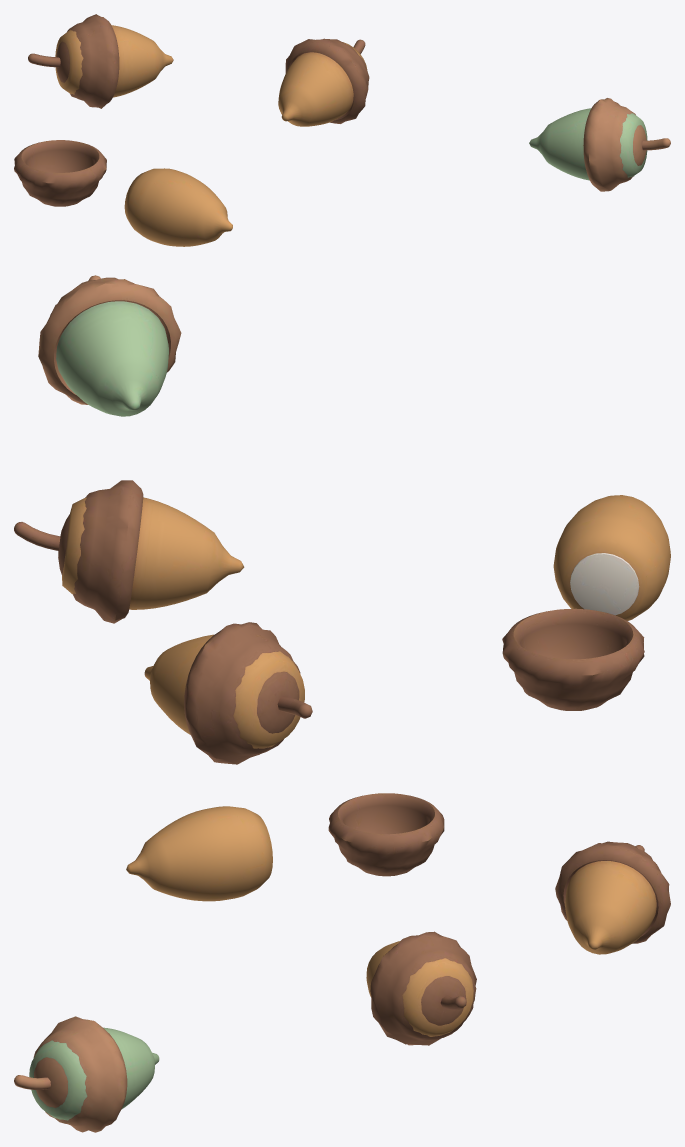
The model's file is acorn.glb.
The picture shows the model from 3 angles, top to bottom: view 1: azimuth 30°, elevation 25°; view 2: azimuth 150°, elevation 25°; view 3: azimuth 270°, elevation 25°; orthographic projection. The views are drawn at different scales.
Parts seen in each view (by area): view 1: acorn_body; view 2: acorn_body; view 3: acorn_body.
Boxes of the visible parts, box(x1,y1,x2,y2) form: acorn_body: box(14, 14, 670, 246); acorn_body: box(14, 275, 670, 764); acorn_body: box(14, 793, 670, 1132).
Size of the model in its own units: 0.1334 by 0.0217 by 0.1211.
Materials: 1 (1 with a texture image).
